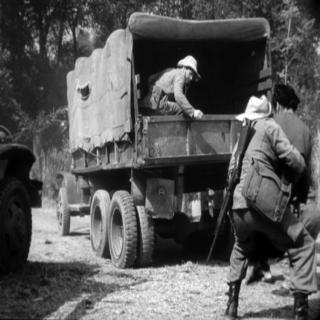gun: (204, 113, 253, 265)
